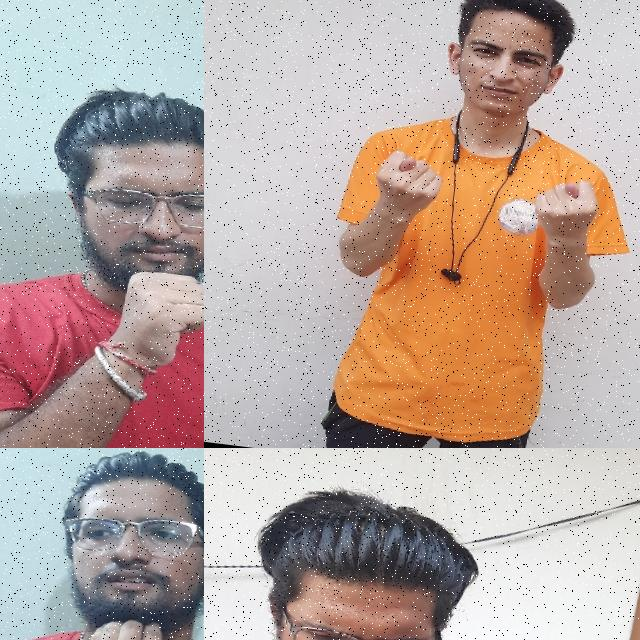Chin Flick: (37, 456, 204, 640)
Dulya: (365, 138, 449, 236), (526, 164, 610, 259)
Fist Mouth: (26, 77, 204, 398), (230, 488, 481, 640)
